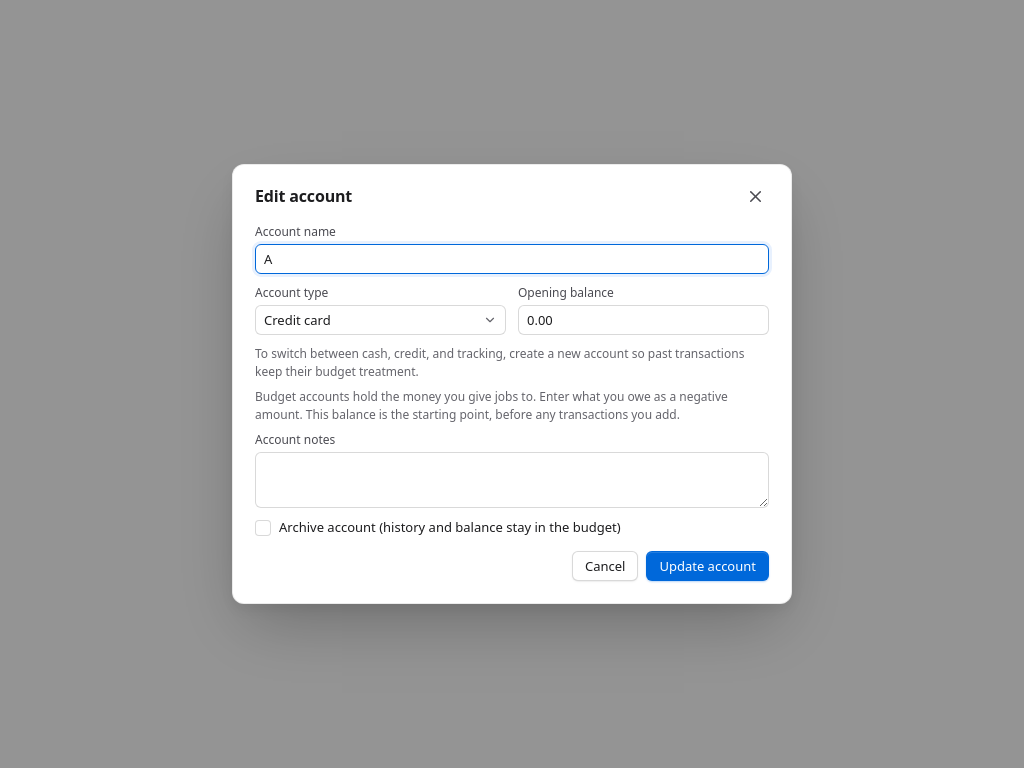
Test: blocks an existing credit account's subtype creditCard from changing to checking
Select "Checking" in the dropdown labelled "Account type" at (380, 320), box left=255, top=306, right=506, bottom=336
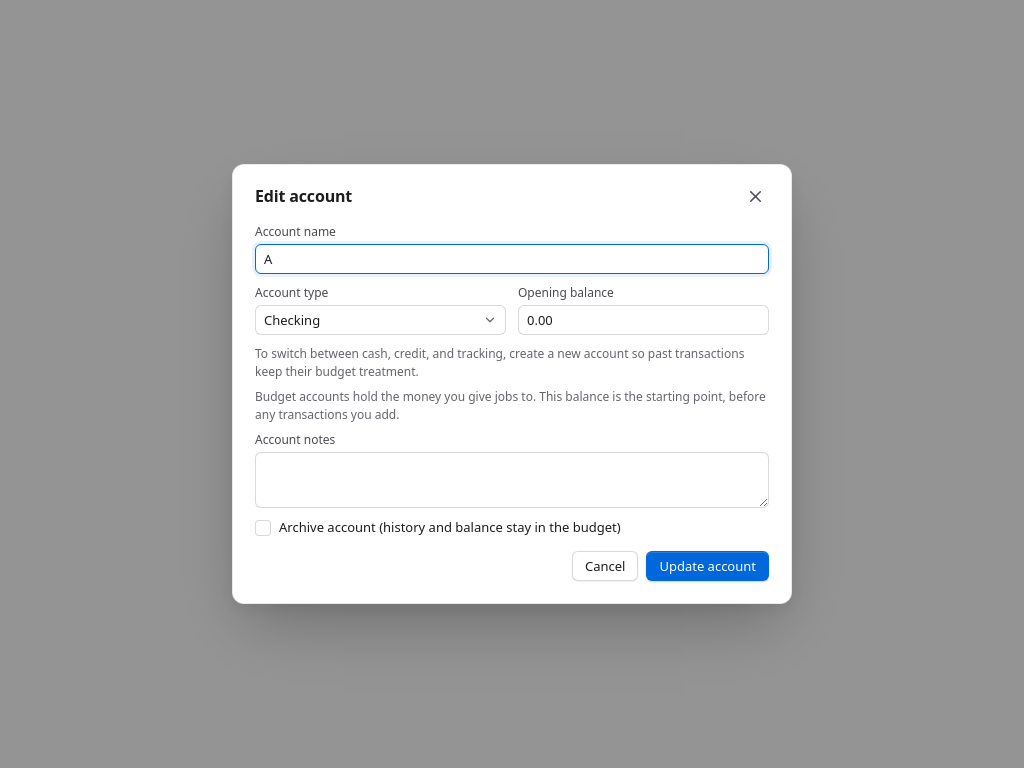
Click the button "Update account".
click(708, 566)  # box left=646, top=551, right=769, bottom=581
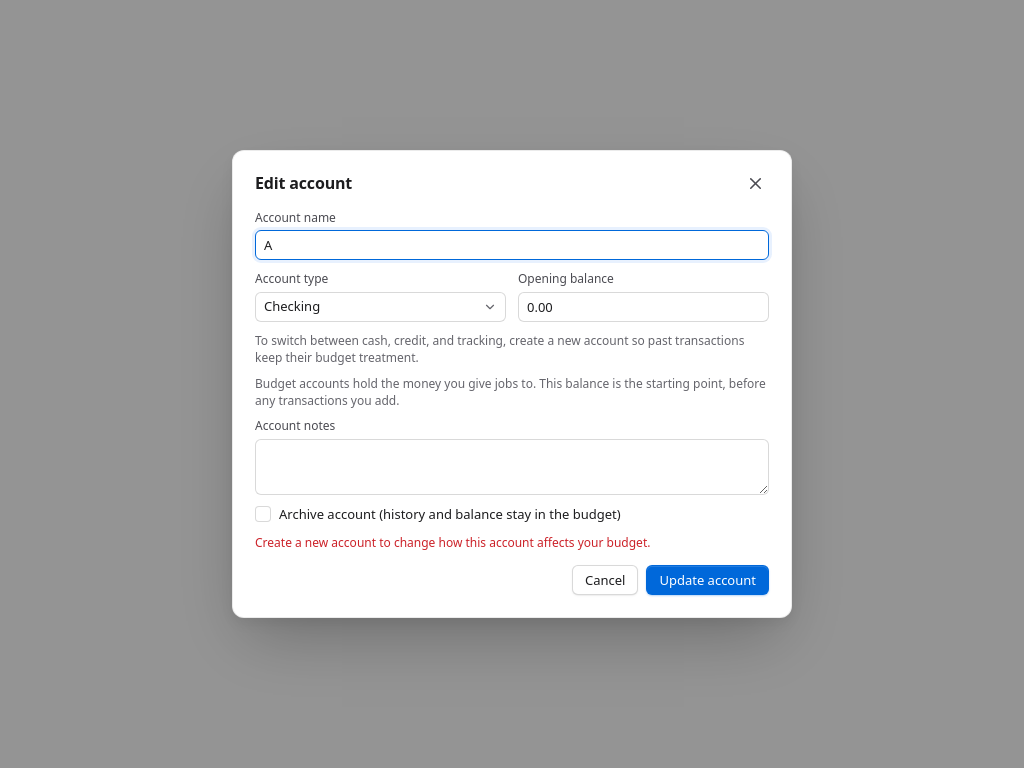
Expected: the text "Create a new account to change how this account affects your budget." is shown, left=255, top=534, right=650, bottom=551
